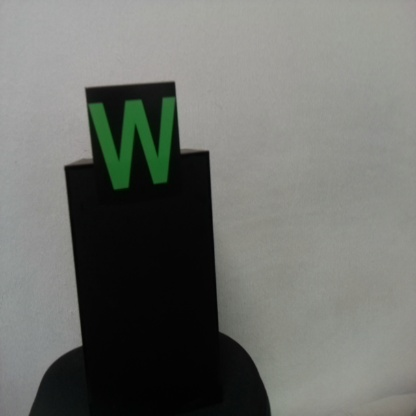id_12: (85, 86, 183, 204)
